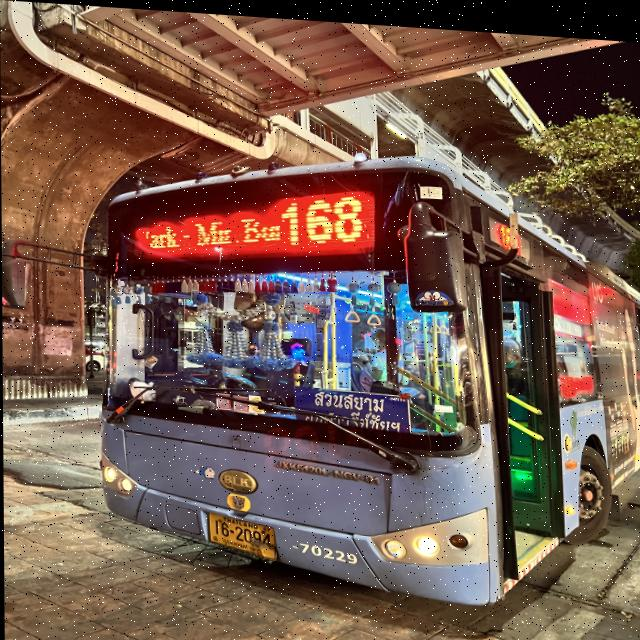BMTA-bus: (97, 151, 640, 603)
Bus Line Number: (276, 183, 371, 246)
Bus Side Number: (280, 530, 359, 565)
Destination Sign: (294, 381, 412, 430)
